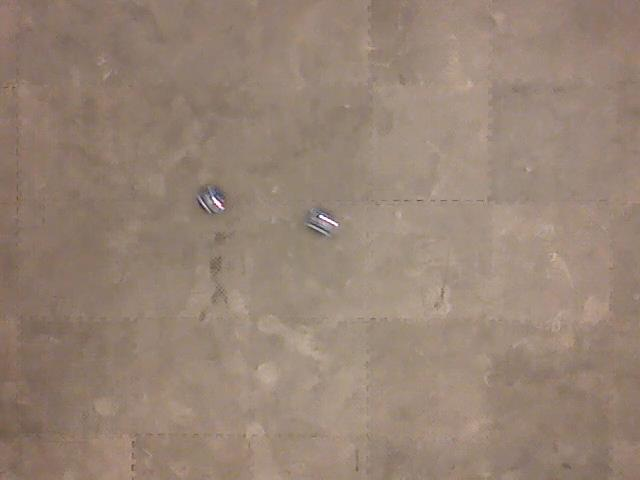Agent: (302, 205, 341, 240), (194, 183, 228, 218)
